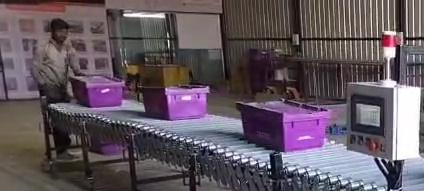box: (238, 100, 331, 151), (141, 85, 208, 120), (71, 76, 124, 107)
